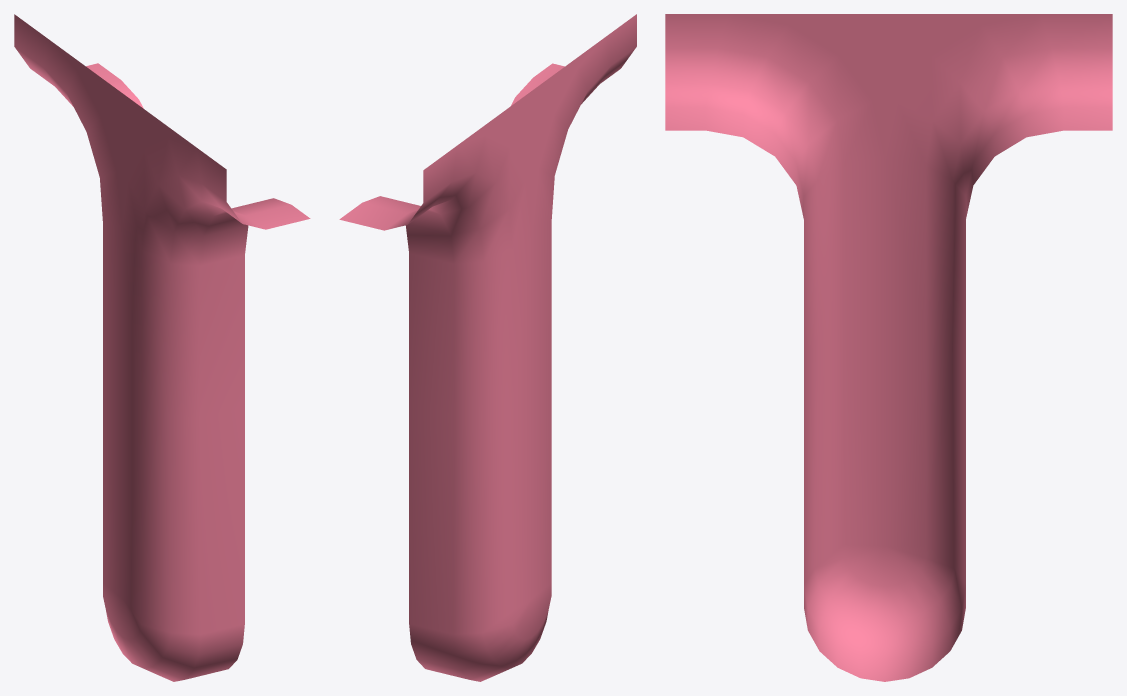
The model's file is SM_M_drop_2.fbx.
3 views of the same model, side by side, from view 1: azimuth 30°, elevation 25°; view 2: azimuth 150°, elevation 25°; view 3: azimuth 270°, elevation 25° (orthographic). The views are drawn at different scales.
Visible parts, largest first — view 1: SM_M_drop_2; view 2: SM_M_drop_2; view 3: SM_M_drop_2.
Boxes of the visible parts, box(x1,y1,x2,y2) form: SM_M_drop_2: box(14, 14, 310, 681); SM_M_drop_2: box(339, 14, 636, 681); SM_M_drop_2: box(665, 14, 1112, 681).
Bounding box in the file's own units: 164 × 1108 × 719.
Materials: 1 (1 with a texture image).
